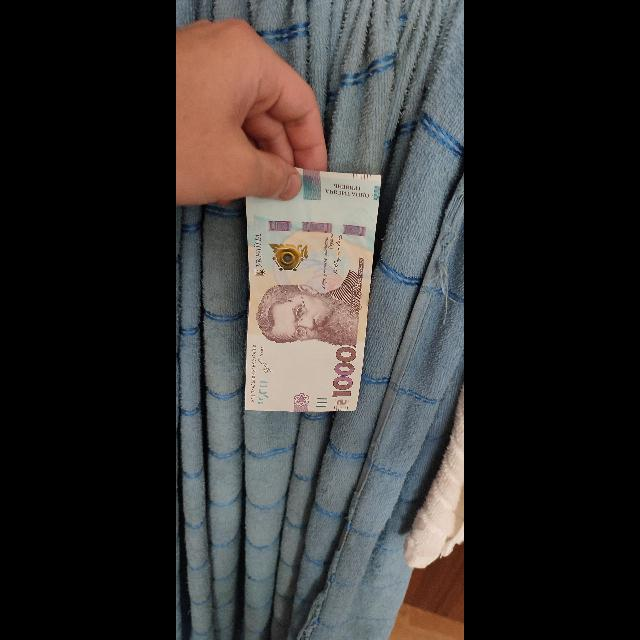1000uah: (245, 170, 381, 411)
